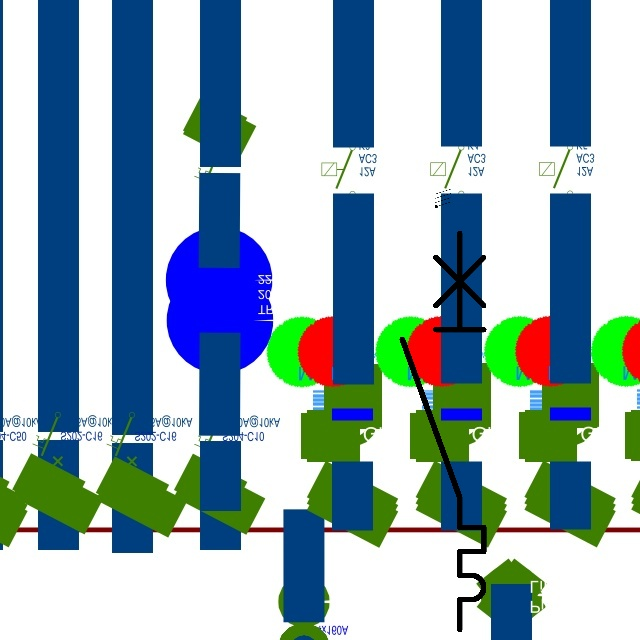interruptor_termomagnetico: (392, 223, 494, 640)
